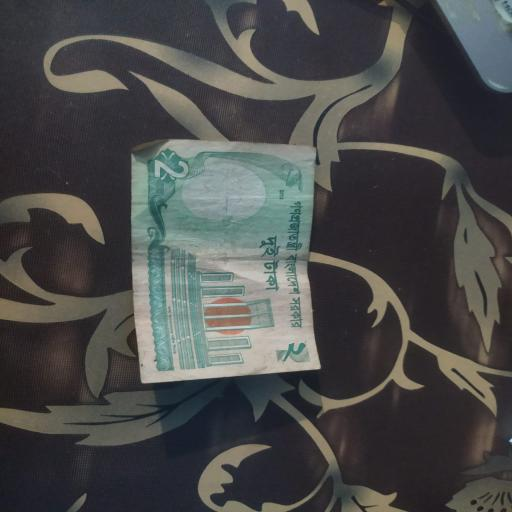2taka: (131, 140, 320, 383)
